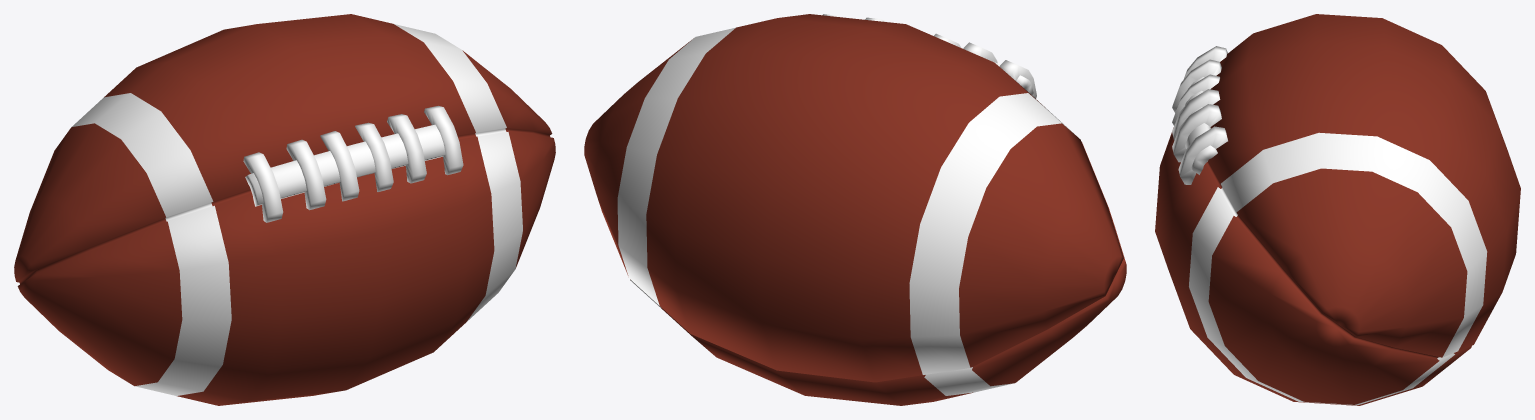
Rendered from AmericanFootballBall.fbx.
3 renders of one model, left to right at view 1: azimuth 30°, elevation 25°; view 2: azimuth 150°, elevation 25°; view 3: azimuth 270°, elevation 25°, orthographic. The views are drawn at different scales.
Visible parts, largest first — view 1: Sphere.002; view 2: Sphere.002; view 3: Sphere.002.
Part boxes in pixels (x1=…): Sphere.002: x1=14, y1=14, x2=555, y2=405; Sphere.002: x1=584, y1=14, x2=1126, y2=405; Sphere.002: x1=1155, y1=14, x2=1520, y2=405.
Size of the model in its own units: 2.26 by 1.44 by 1.44.
1 material, 1 textured.
